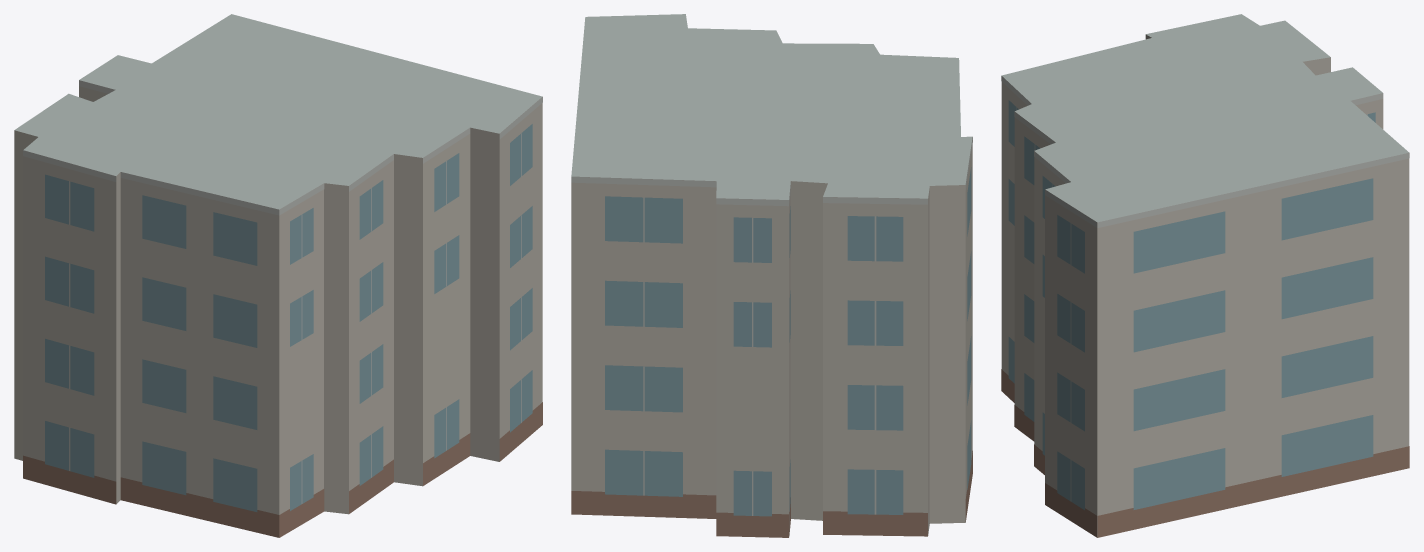
Rendered from survey-upis-32601734.glb.
The picture shows the model from 3 angles, left to right: view 1: azimuth 30°, elevation 25°; view 2: azimuth 150°, elevation 25°; view 3: azimuth 270°, elevation 25°; orthographic projection. The views are drawn at different scales.
Parts seen in each view (by area): view 1: survey-upis-32601734.tmp; view 2: survey-upis-32601734.tmp; view 3: survey-upis-32601734.tmp.
Boxes of the visible parts, bbox=[...] form: survey-upis-32601734.tmp: bbox=[14, 14, 542, 537]; survey-upis-32601734.tmp: bbox=[571, 14, 972, 537]; survey-upis-32601734.tmp: bbox=[1001, 14, 1409, 537].
Bounding box in the file's own units: 18.93 × 13.35 × 15.66.
